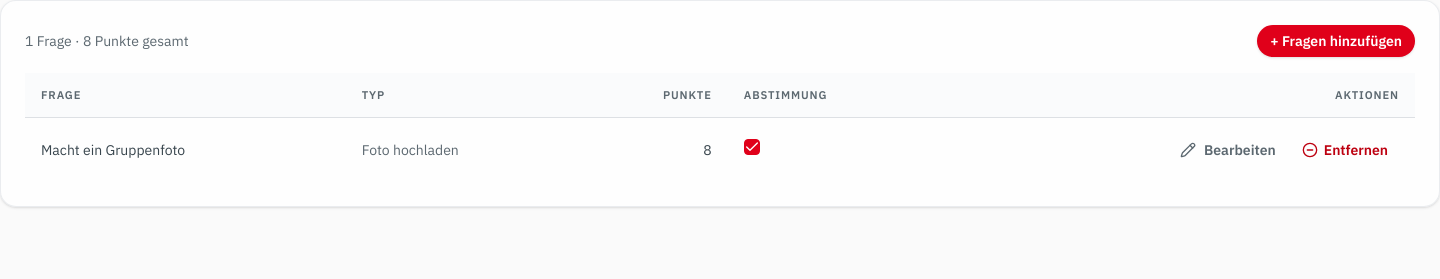
Test: RallyeQuestionsManager › lets an upload question be deselected from voting
Click the checkbox named "Abstimmung": (752, 147) [744, 139, 760, 155]
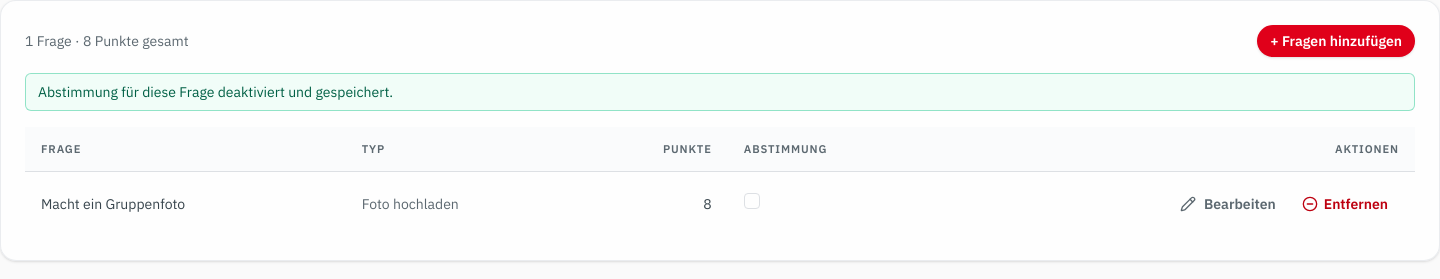
Check: the message reads "Abstimmung für diese Frage deaktiviert und gespeichert.", box [38, 83, 393, 101]
